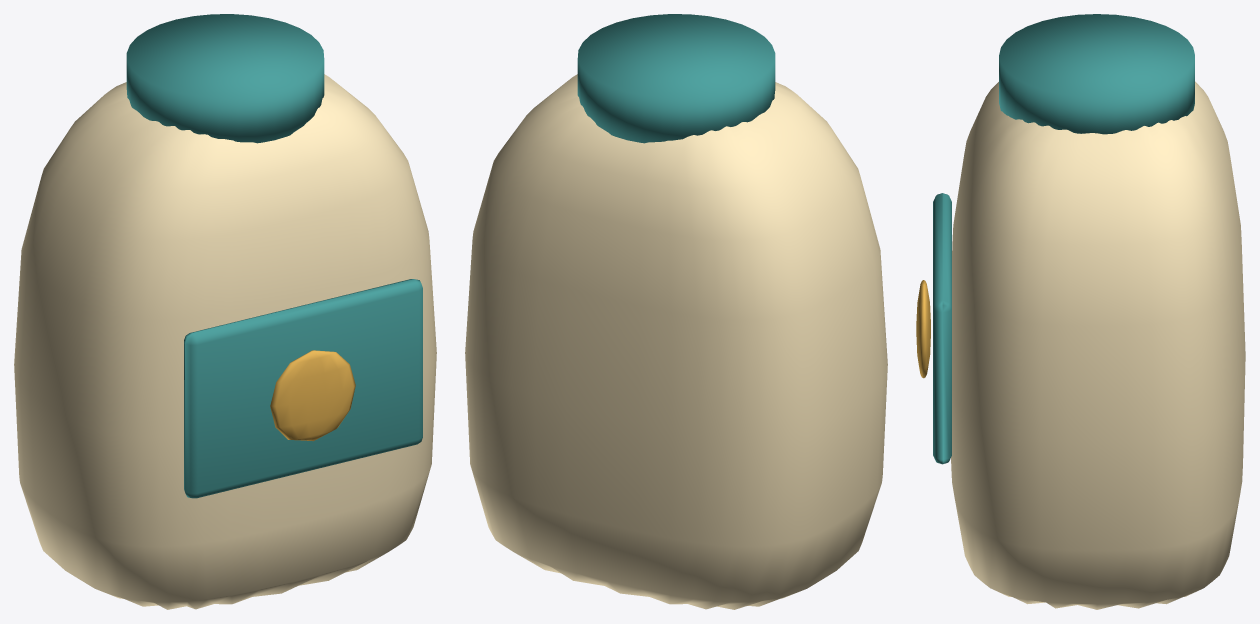
File: goods_milk.glb
The picture shows the model from 3 angles, left to right: view 1: azimuth 30°, elevation 25°; view 2: azimuth 150°, elevation 25°; view 3: azimuth 270°, elevation 25°; orthographic projection.
Visible parts, largest first — view 1: goods_milk_crafted_mesh; view 2: goods_milk_crafted_mesh; view 3: goods_milk_crafted_mesh.
Boxes of the visible parts, x1,y1,x2,y2 form: goods_milk_crafted_mesh: (14,14,436,609); goods_milk_crafted_mesh: (465,14,887,609); goods_milk_crafted_mesh: (916,14,1245,609).
Size of the model in its own units: 0.5499 by 0.738 by 0.4368.
